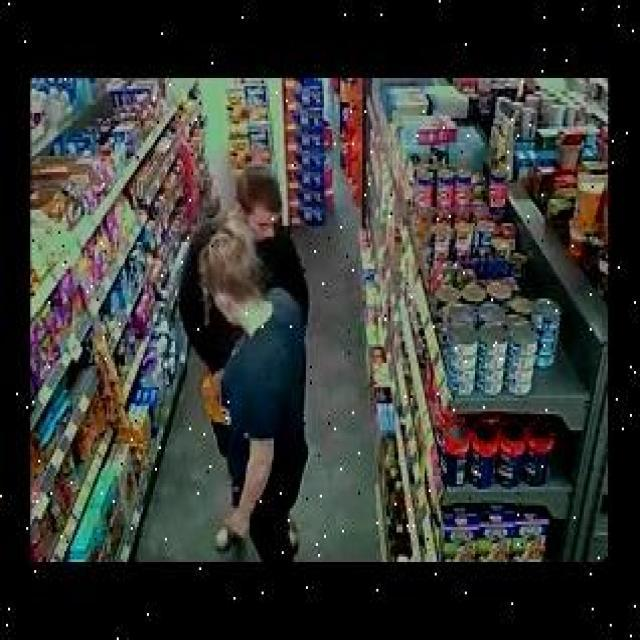Shoplifting: (171, 158, 351, 564)
